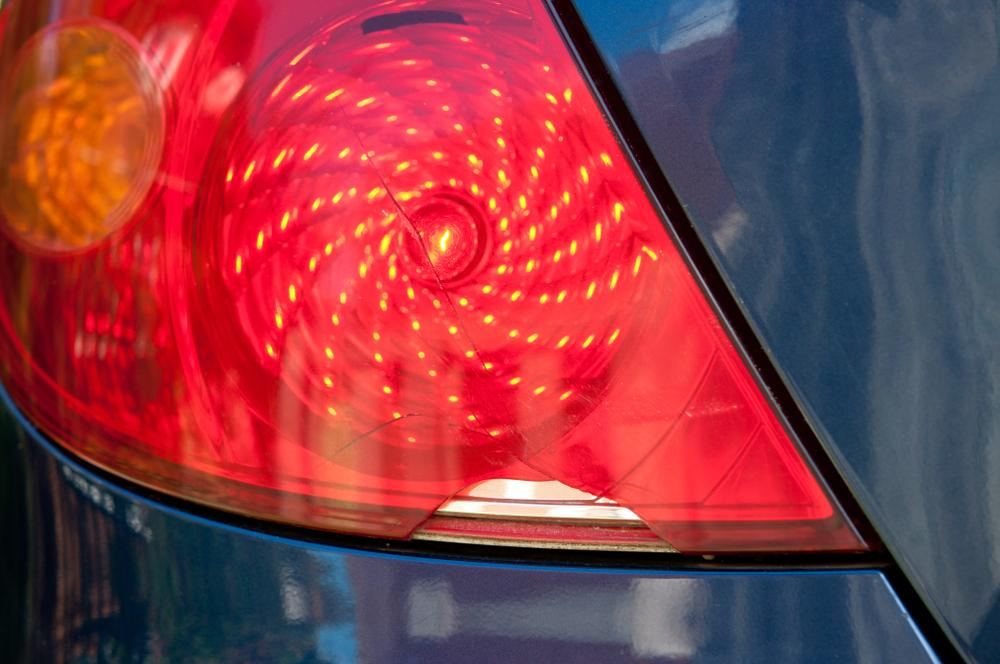lamp broken: (0, 0, 874, 555)
